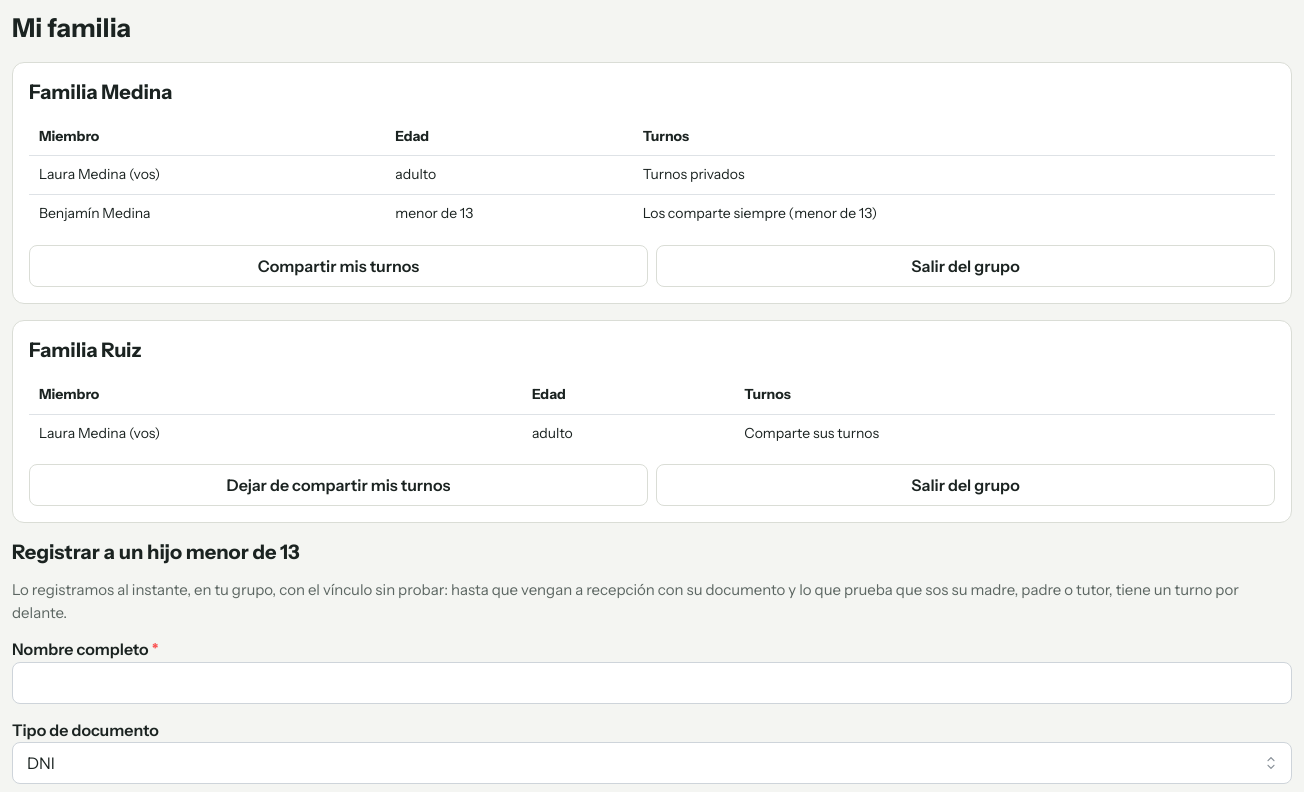
Test: Mi familia › leaves a group, and says one left meanwhile
Click the button "Salir del grupo" below "Comparte sus turnos": (966, 485) [656, 464, 1275, 506]
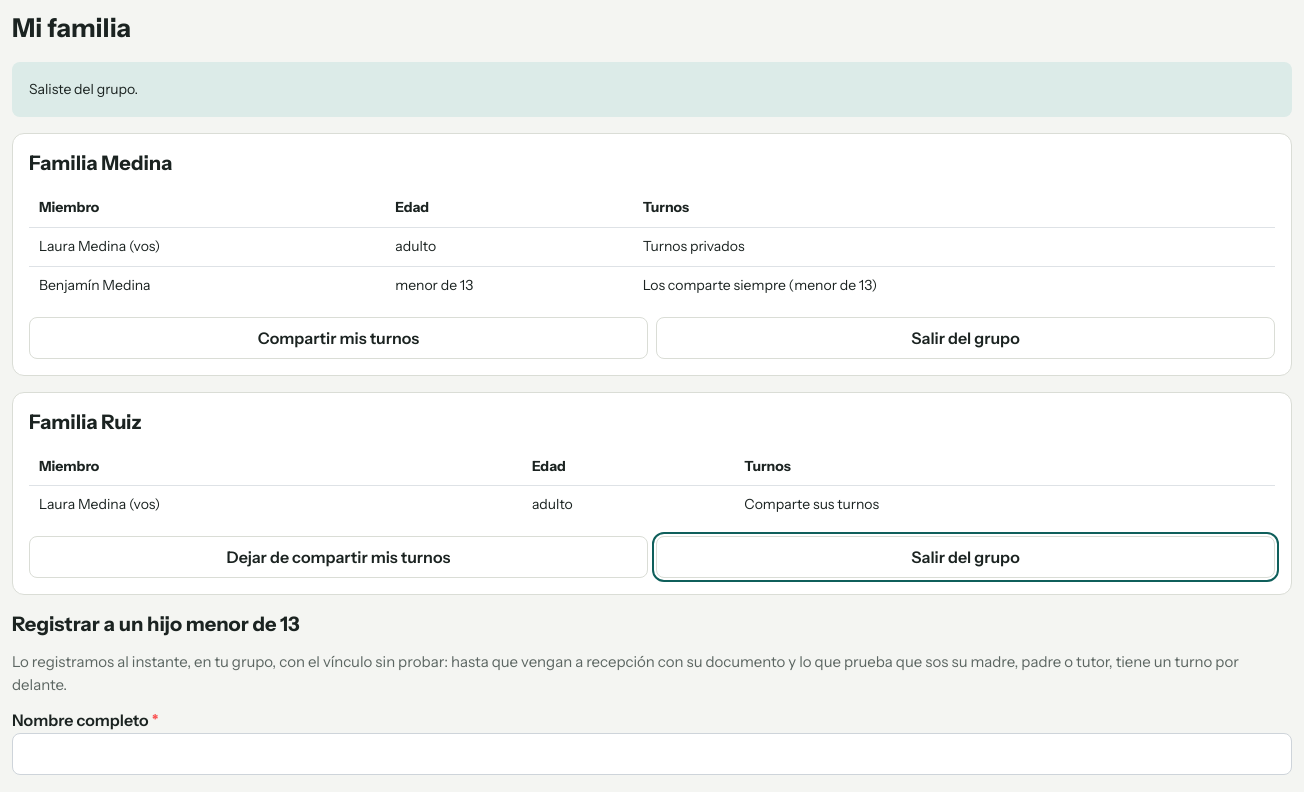
Expected: the message reads "Saliste del grupo.", [29, 80, 138, 98]
Click the button "Salir del grupo" below "Comparte sus turnos": (966, 557) [656, 536, 1275, 578]
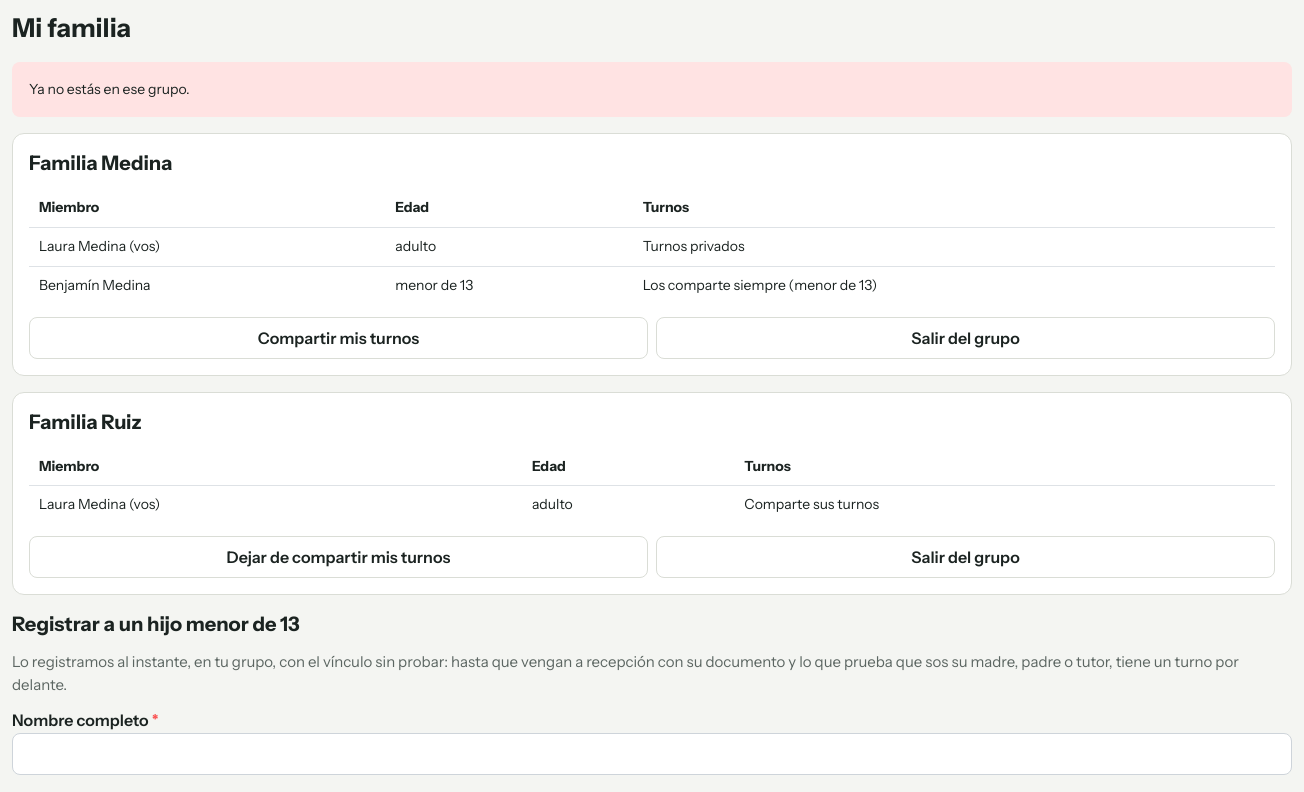
Expected: the message reads "Ya no estás en ese grupo.", [29, 80, 190, 98]
